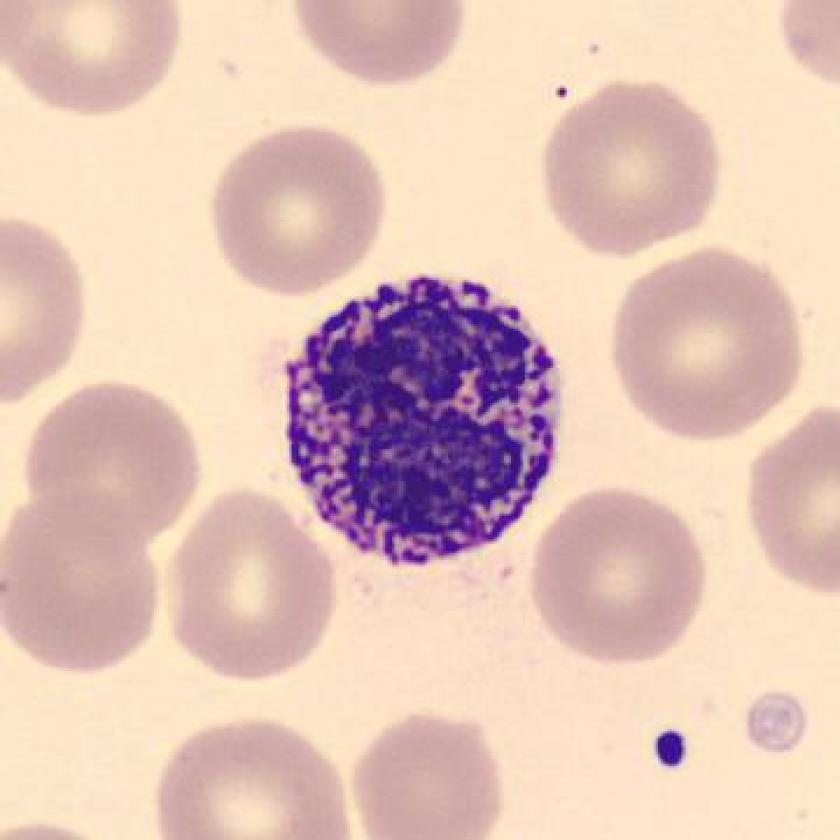basophil: (277, 263, 571, 571)
